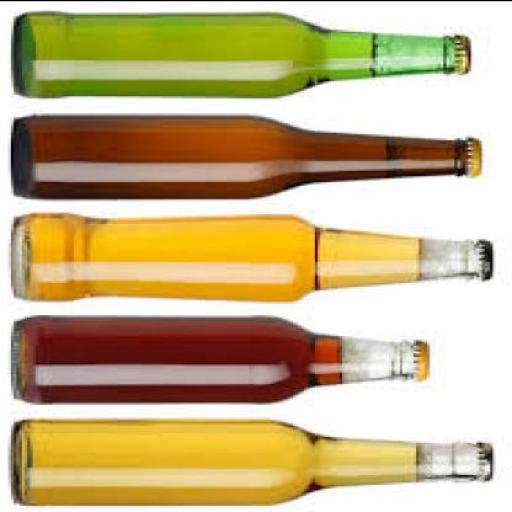glass: (16, 418, 482, 508), (16, 214, 482, 302), (13, 116, 469, 202), (14, 10, 457, 98), (14, 314, 416, 404)
metal: (468, 139, 485, 179), (460, 36, 474, 76), (419, 343, 433, 381), (485, 245, 498, 282), (484, 445, 496, 482)
